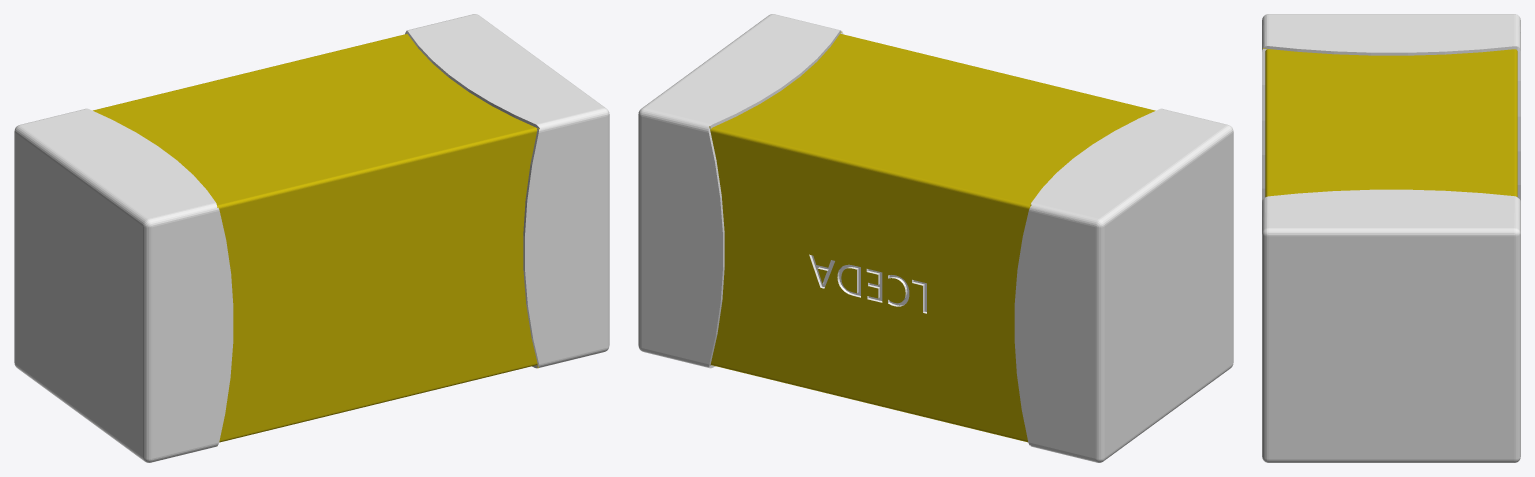
Rendered from FrozenR6-C9.glb.
3 renders of one model, left to right at view 1: azimuth 30°, elevation 25°; view 2: azimuth 150°, elevation 25°; view 3: azimuth 270°, elevation 25°, orthographic. The views are drawn at different scales.
Parts seen in each view (by area): view 1: C9_04d201, C9_fb3832; view 2: C9_04d201, C9_fb3832, C9_27e8c3; view 3: C9_fb3832, C9_04d201.
Part boxes in pixels (box(x1,y1,x2,y2)): C9_04d201: box(93, 34, 539, 442); C9_fb3832: box(14, 14, 609, 462); C9_04d201: box(709, 31, 1155, 442); C9_fb3832: box(638, 14, 1233, 462); C9_27e8c3: box(809, 254, 926, 313); C9_fb3832: box(1262, 14, 1520, 462); C9_04d201: box(1263, 48, 1517, 197).
Bounding box in the file's own units: 1.6 × 0.8 × 0.8.
